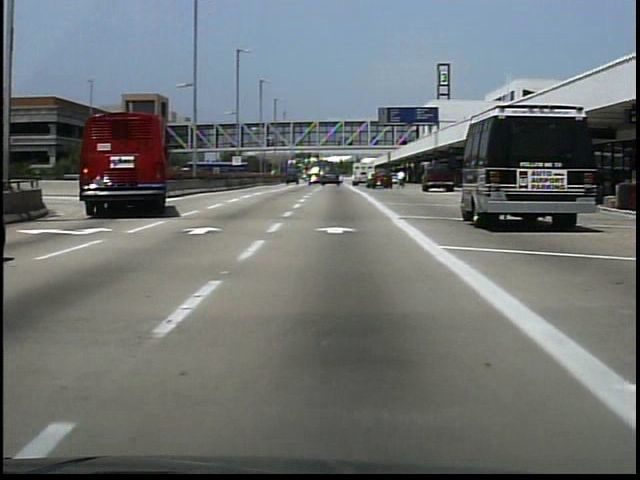person: (394, 169, 407, 191)
